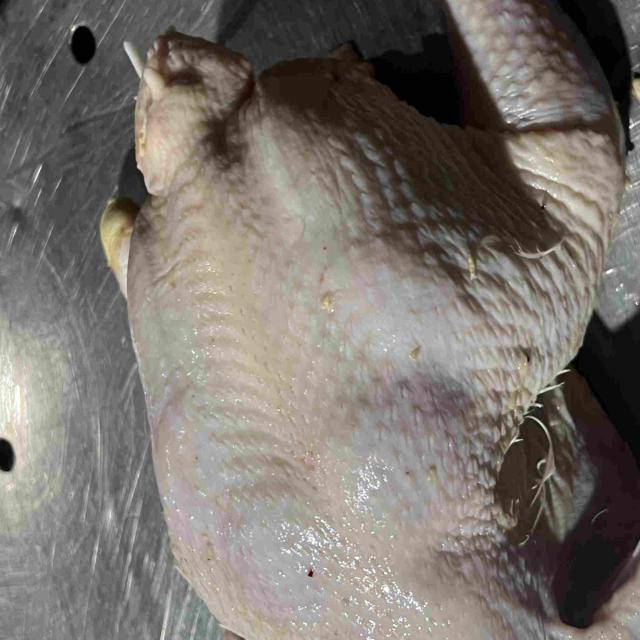back: (127, 35, 483, 640)
leg: (428, 0, 628, 441), (100, 196, 140, 296)
